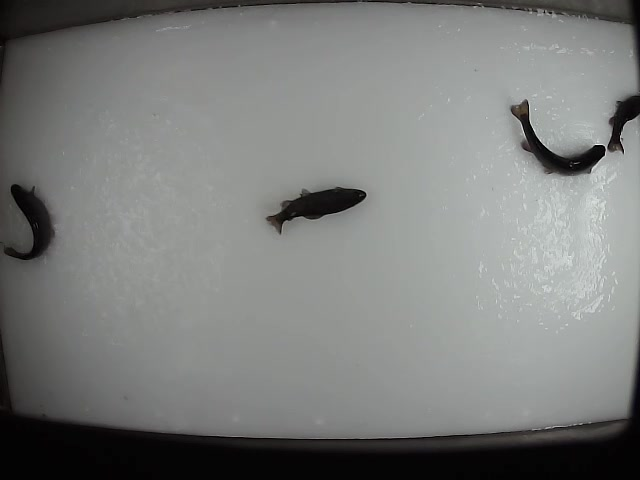fish: (509, 97, 608, 181), (263, 184, 367, 235), (1, 181, 63, 261)
